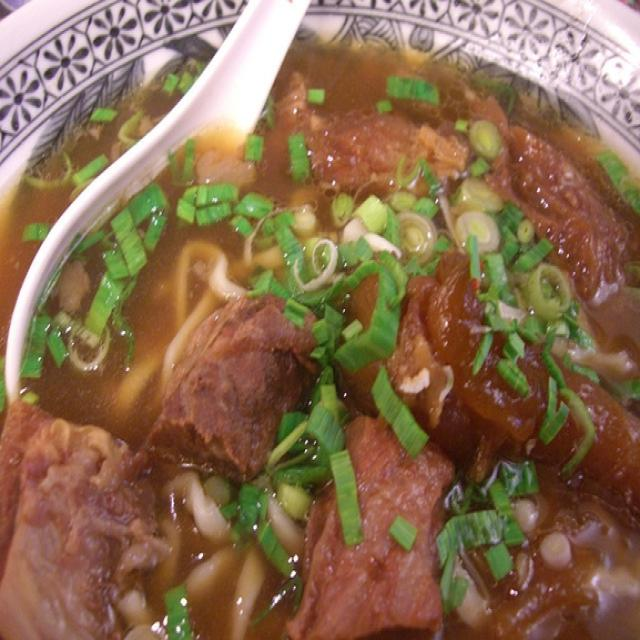面条主食: (10, 31, 619, 618)
